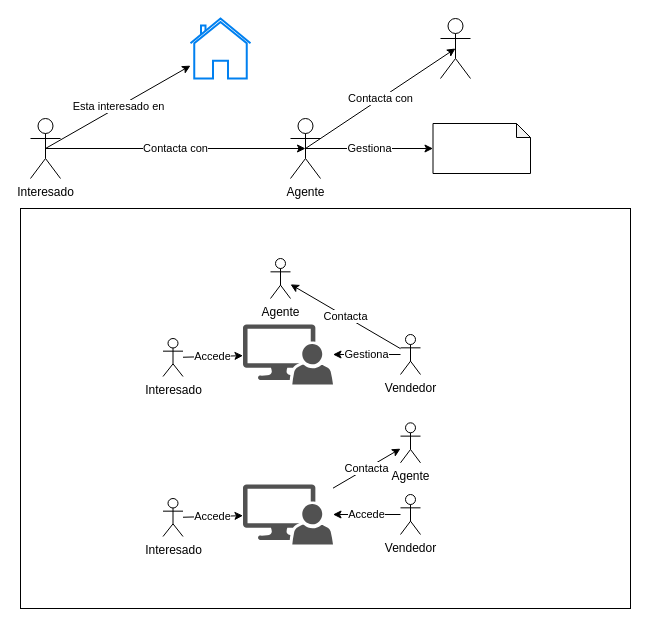
The diagram is 648 pixels wide and 626 high, and some of its shapes have lost their labels. The shapes that lost their labels are listed below. From the top down, each one's box as (x1, y1, x2, y2) in pixels, then its label:
(440, 18, 470, 78): Propietario
(432, 122, 530, 174): Documentación
